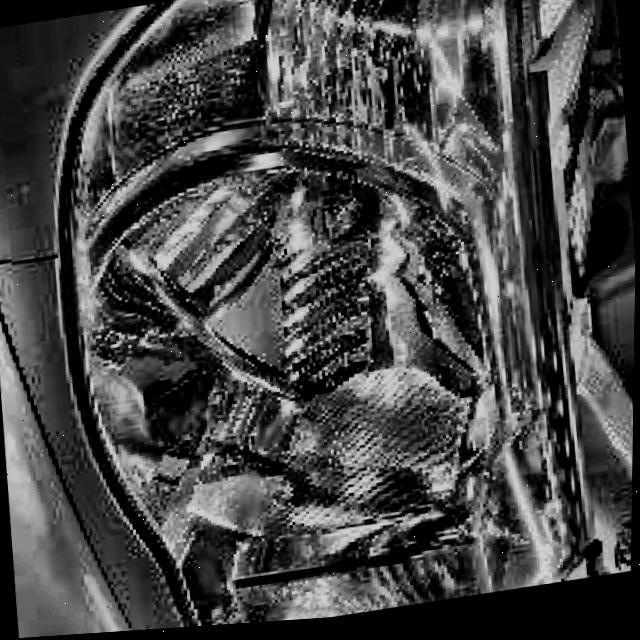head_lamp: (100, 151, 476, 551)
